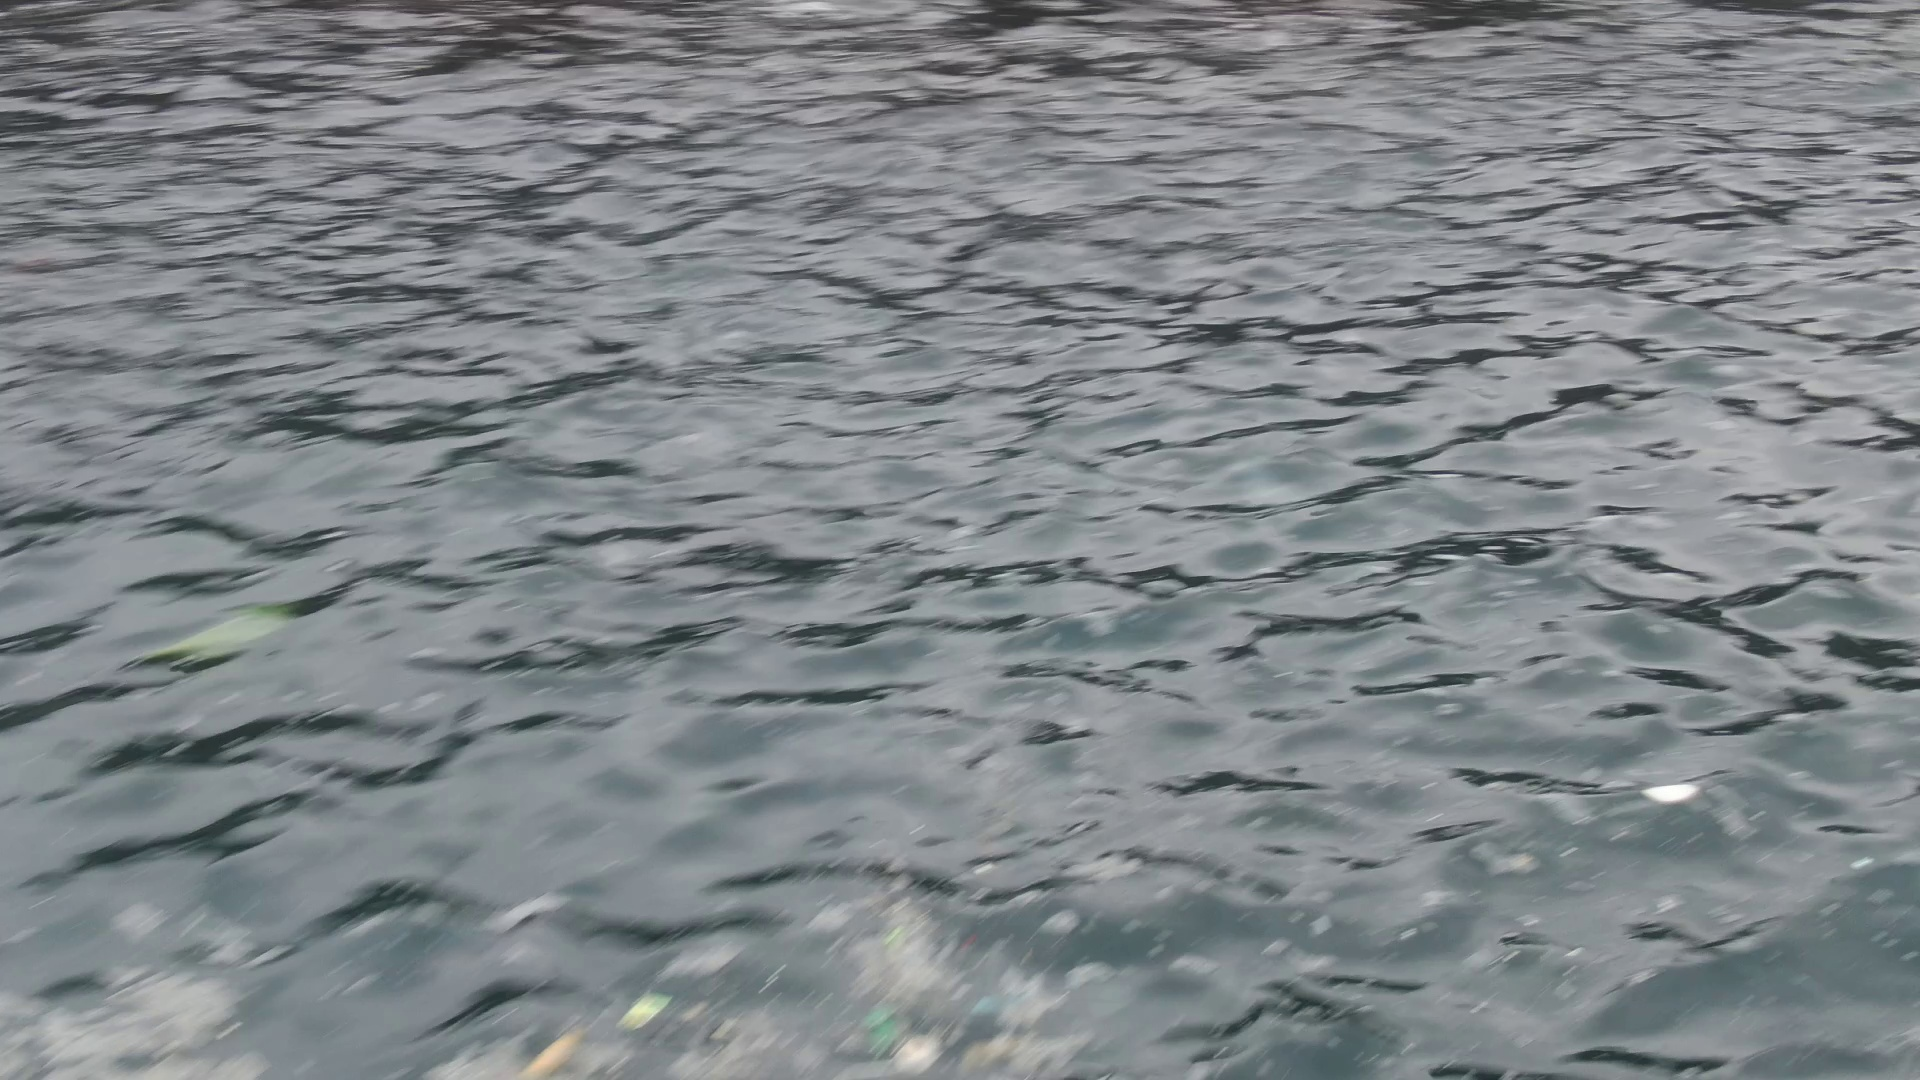garbage: (862, 1000, 1005, 1072), (182, 607, 280, 651), (622, 990, 670, 1027), (529, 1036, 582, 1068), (1639, 783, 1698, 806)
